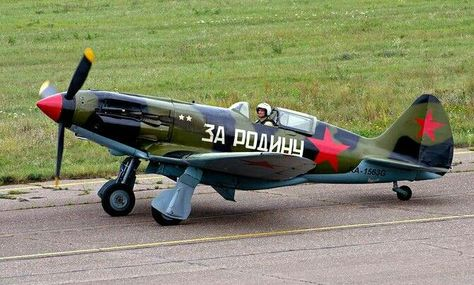Aeronef_militaire: (30, 42, 462, 229)
